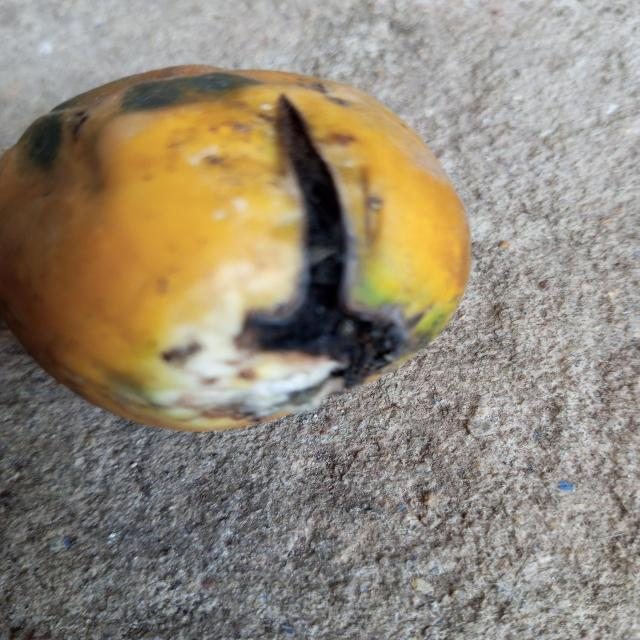damaged: (0, 65, 472, 436)
